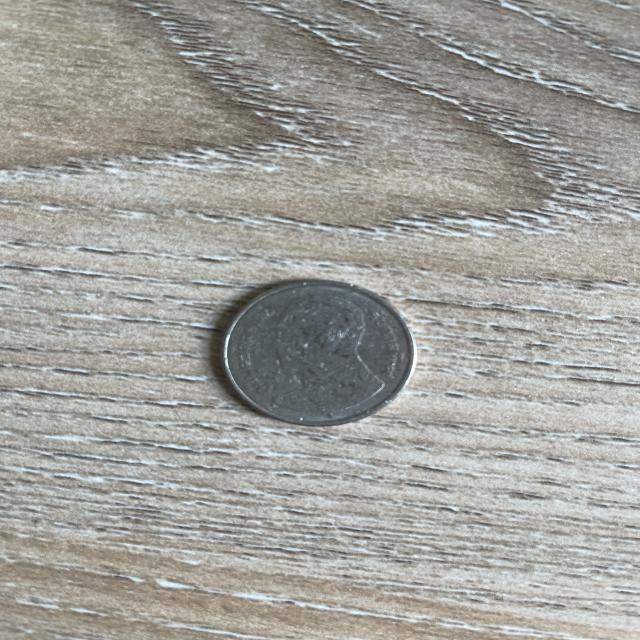1 Bath: (192, 270, 440, 441)
